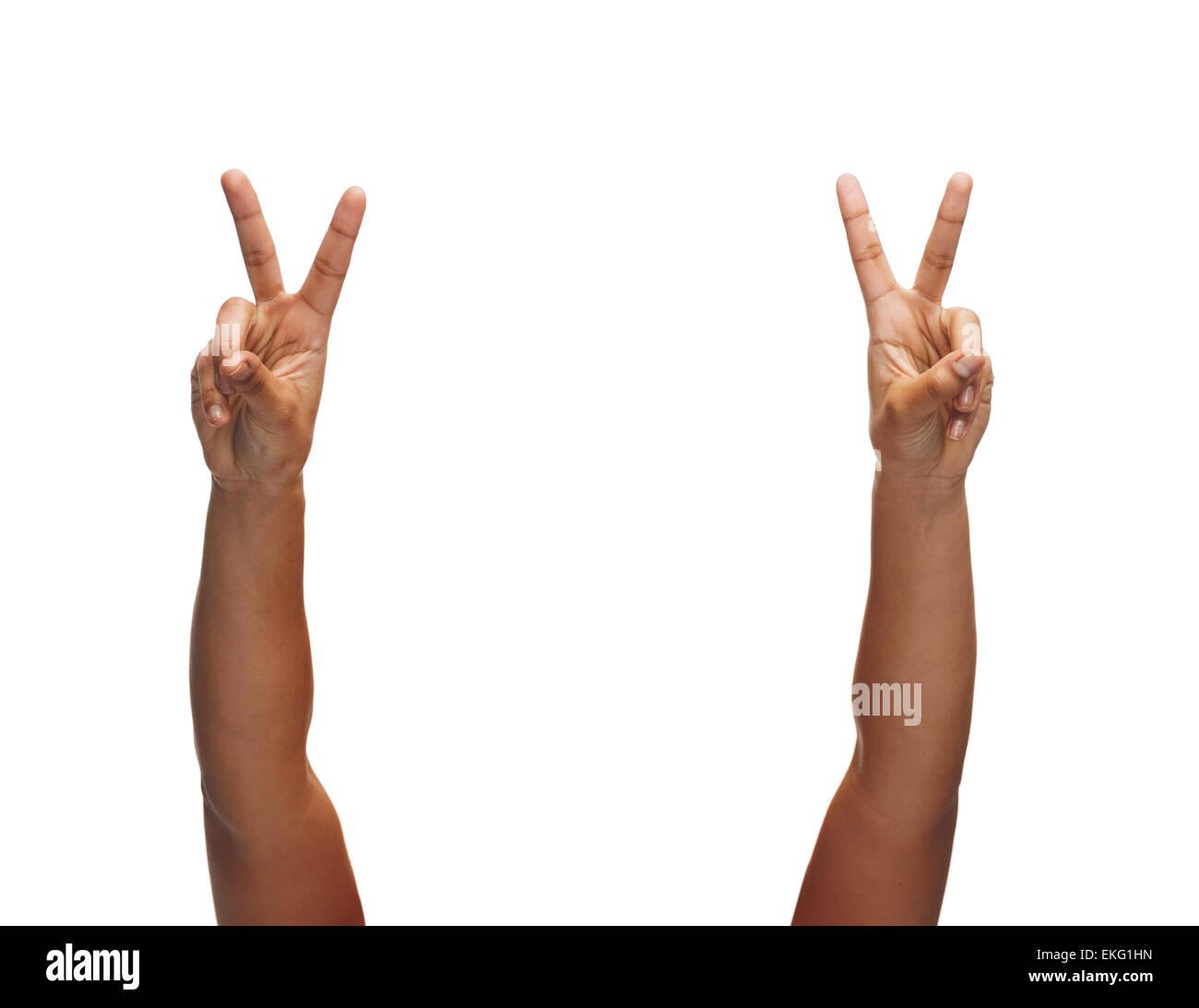peace_sign: (180, 155, 381, 493)
